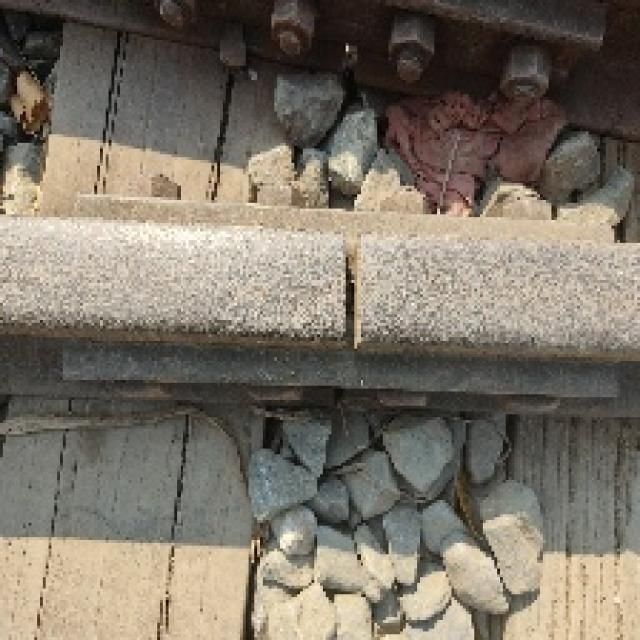Good Joint: (55, 190, 622, 400), (117, 0, 606, 97)
